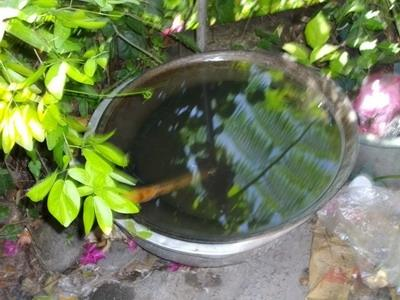bowl: (96, 51, 360, 245)
